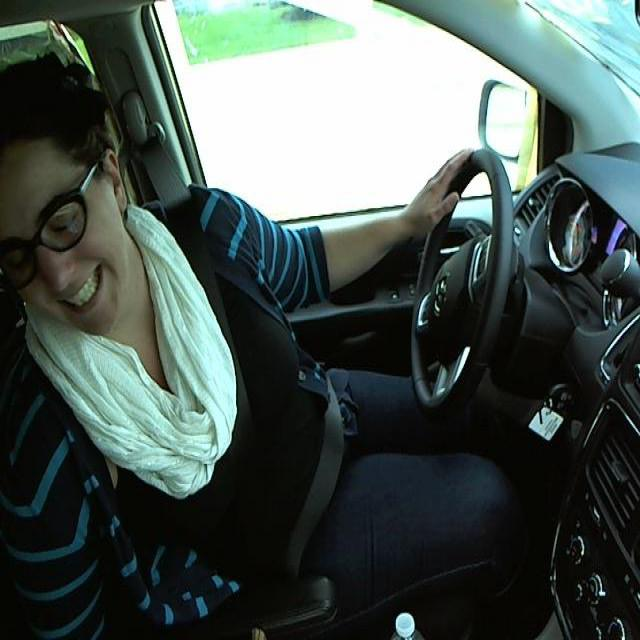seatbelt: (150, 196, 355, 565)
